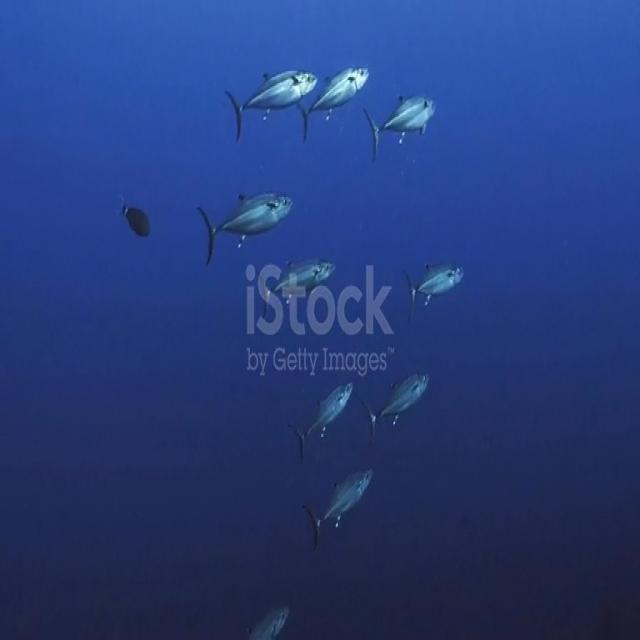fish: (195, 180, 294, 262), (304, 458, 378, 545), (225, 62, 318, 126), (302, 58, 371, 136), (251, 254, 337, 315), (361, 370, 434, 440), (364, 92, 438, 157), (402, 255, 470, 325), (290, 378, 356, 450), (245, 588, 293, 640), (118, 196, 154, 245)
